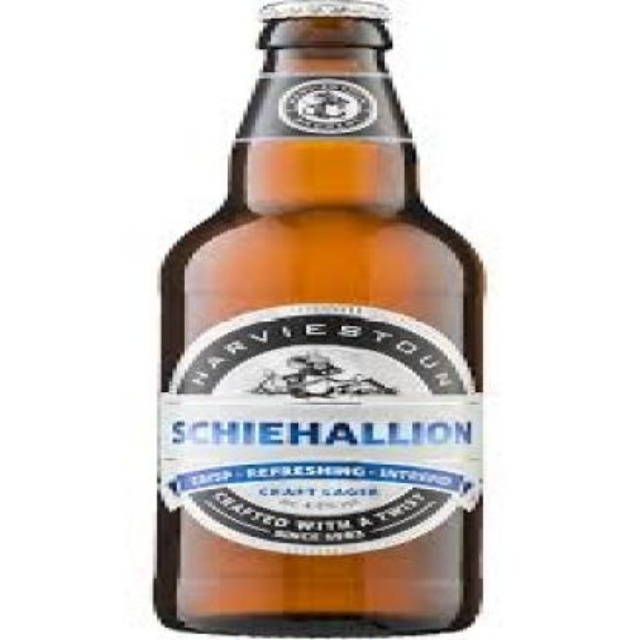trash: (154, 0, 483, 634)
